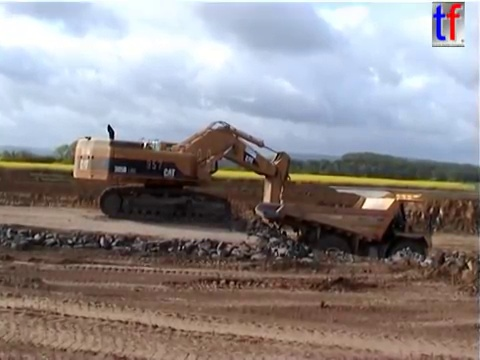excavator: (70, 118, 294, 249)
truck: (252, 190, 438, 277)
